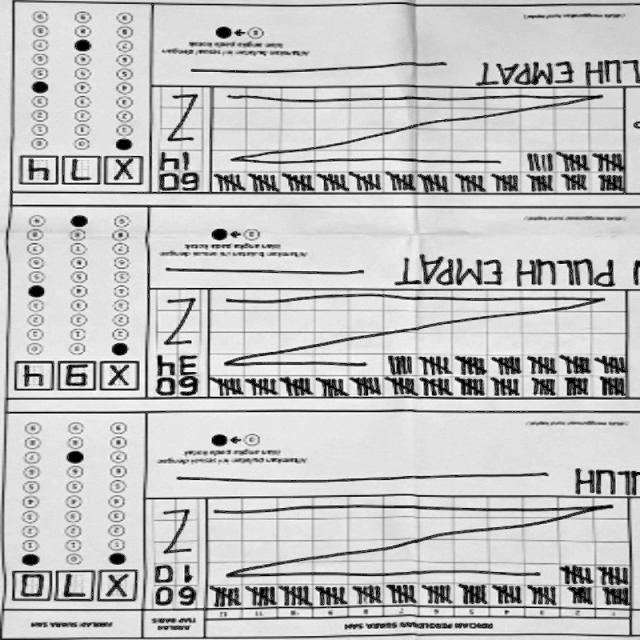Suara: (8, 566, 142, 610), (8, 356, 142, 399), (16, 154, 150, 196)
